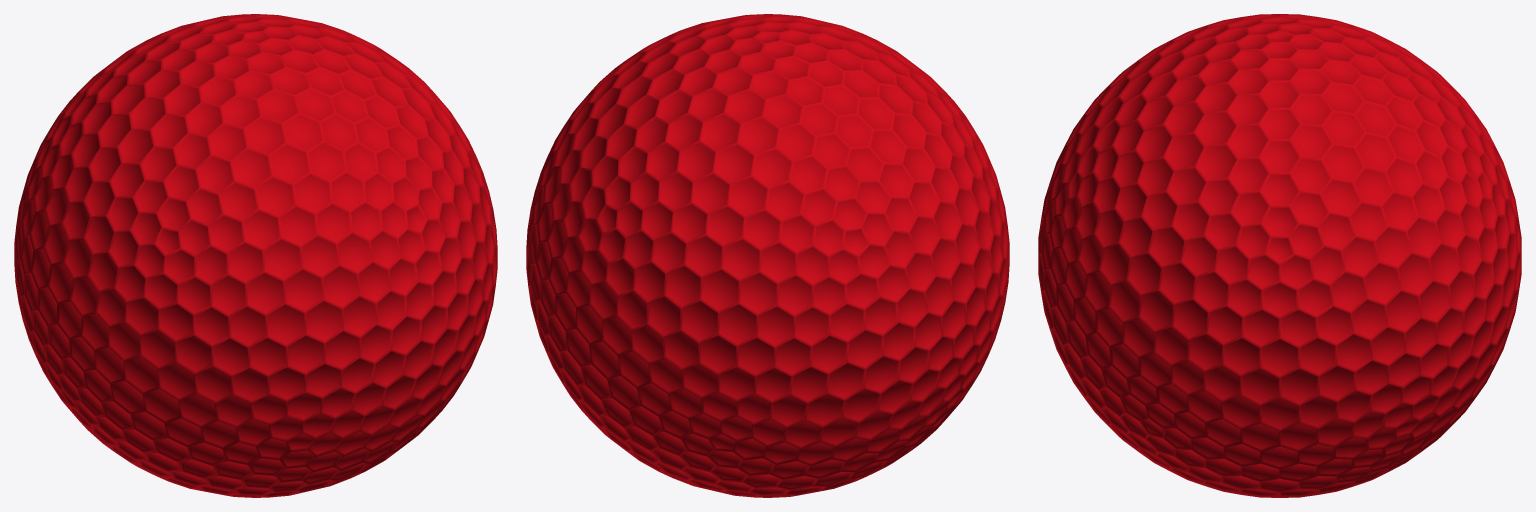
Rendered from RedGolfBall.glb.
The picture shows the model from 3 angles, left to right: view 1: azimuth 30°, elevation 25°; view 2: azimuth 150°, elevation 25°; view 3: azimuth 270°, elevation 25°; orthographic projection.
Visible parts, largest first — view 1: Icosphere.001; view 2: Icosphere.001; view 3: Icosphere.001.
Part boxes in pixels (x1,y1,x2,y2): Icosphere.001: [14, 14, 497, 497]; Icosphere.001: [526, 14, 1009, 497]; Icosphere.001: [1038, 14, 1521, 497].
Bounding box in the file's own units: 1.98 × 1.99 × 1.98.
